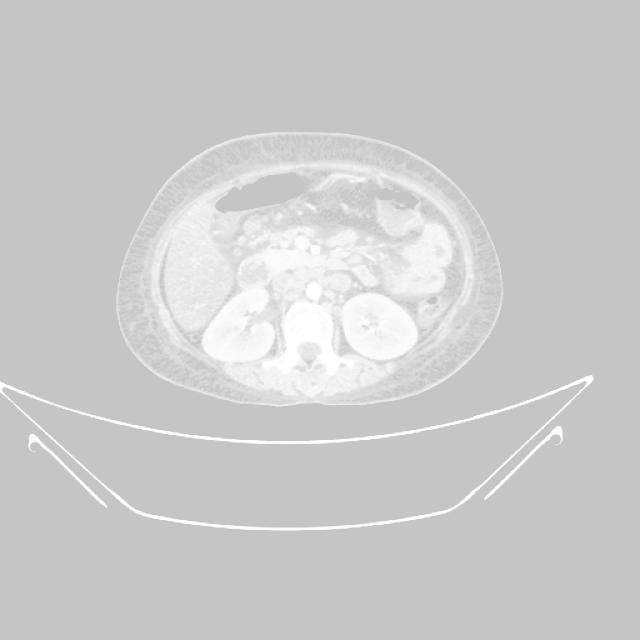NORMAL: (70, 124, 539, 430)
